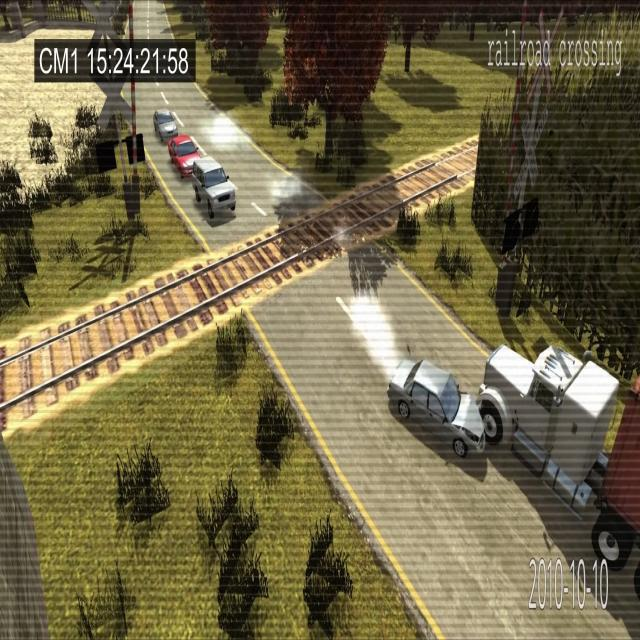high-cars-accident: (350, 322, 557, 502)
